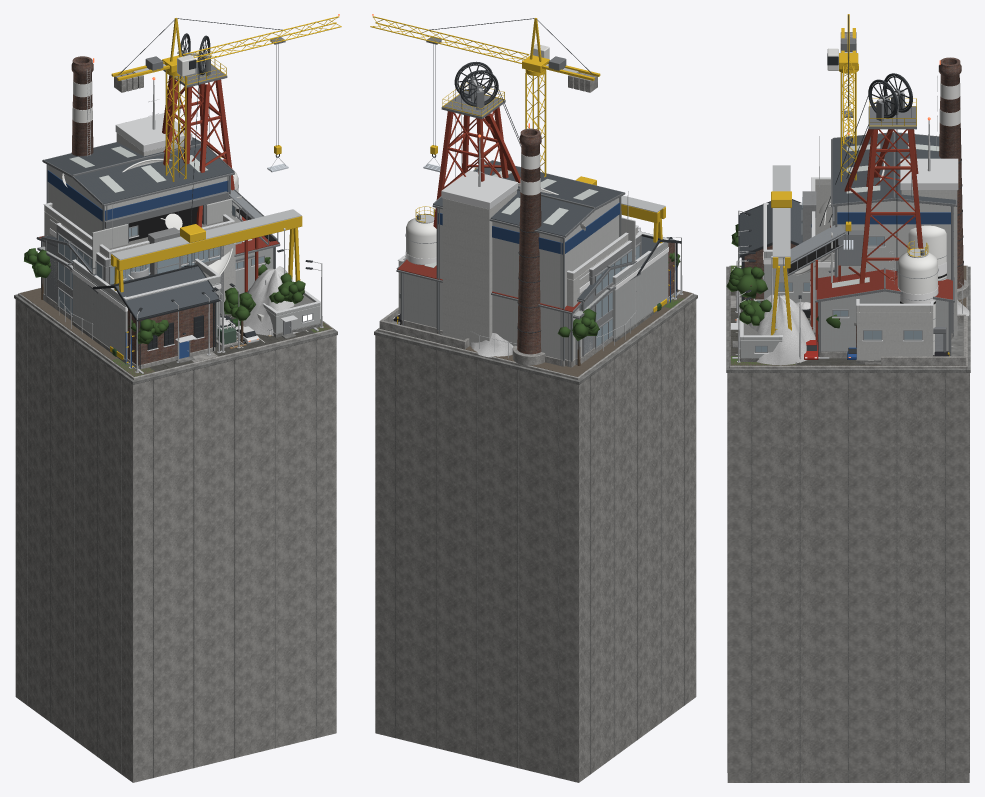
The model's file is buildings.glb.
3 renders of one model, left to right at view 1: azimuth 30°, elevation 25°; view 2: azimuth 150°, elevation 25°; view 3: azimuth 270°, elevation 25°, orthographic. The views are drawn at different scales.
Visible parts, largest first — view 1: foundation, assemblyHall, mine, hq, batteryPlant, gantry, researchLab, jib, metalWorks, groundStation, warehouse, crane (+3 smaller); view 2: foundation, assemblyHall, hq, batteryPlant, metalWorks, mine, jib, warehouse, groundStation, researchLab, gantry, crane (+2 smaller); view 3: foundation, assemblyHall, mine, batteryPlant, warehouse, hq, metalWorks, researchLab, gantry, jib, groundStation, crane (+4 smaller).
Part boxes in pixels (x1,y1,x2,y2): foundation: [14, 294, 337, 782]; assemblyHall: [18, 137, 334, 379]; mine: [92, 51, 298, 369]; hq: [24, 77, 285, 376]; batteryPlant: [72, 157, 321, 371]; gantry: [110, 209, 302, 359]; researchLab: [43, 202, 330, 351]; jib: [111, 14, 341, 172]; metalWorks: [41, 56, 246, 352]; groundStation: [20, 249, 331, 376]; warehouse: [36, 216, 280, 367]; crane: [165, 70, 186, 181]; foundation: [374, 294, 697, 782]; assemblyHall: [377, 160, 693, 379]; hq: [381, 134, 680, 365]; batteryPlant: [379, 206, 668, 349]; metalWorks: [512, 123, 636, 365]; mine: [433, 82, 681, 357]; jib: [370, 14, 600, 172]; warehouse: [396, 258, 676, 367]; groundStation: [399, 237, 691, 376]; researchLab: [567, 191, 684, 358]; gantry: [474, 161, 666, 312]; crane: [525, 70, 546, 177]; foundation: [726, 266, 970, 782]; assemblyHall: [729, 131, 967, 368]; mine: [734, 81, 969, 365]; batteryPlant: [731, 203, 966, 365]; warehouse: [730, 245, 954, 358]; hq: [726, 117, 958, 365]; metalWorks: [730, 57, 968, 365]; researchLab: [731, 136, 840, 365]; gantry: [771, 165, 791, 335]; jib: [827, 14, 858, 249]; groundStation: [730, 210, 966, 365]; crane: [840, 72, 856, 181].
Size of the model in its own units: 39.46 by 98.13 by 30.32.
64 materials, 25 textured.
